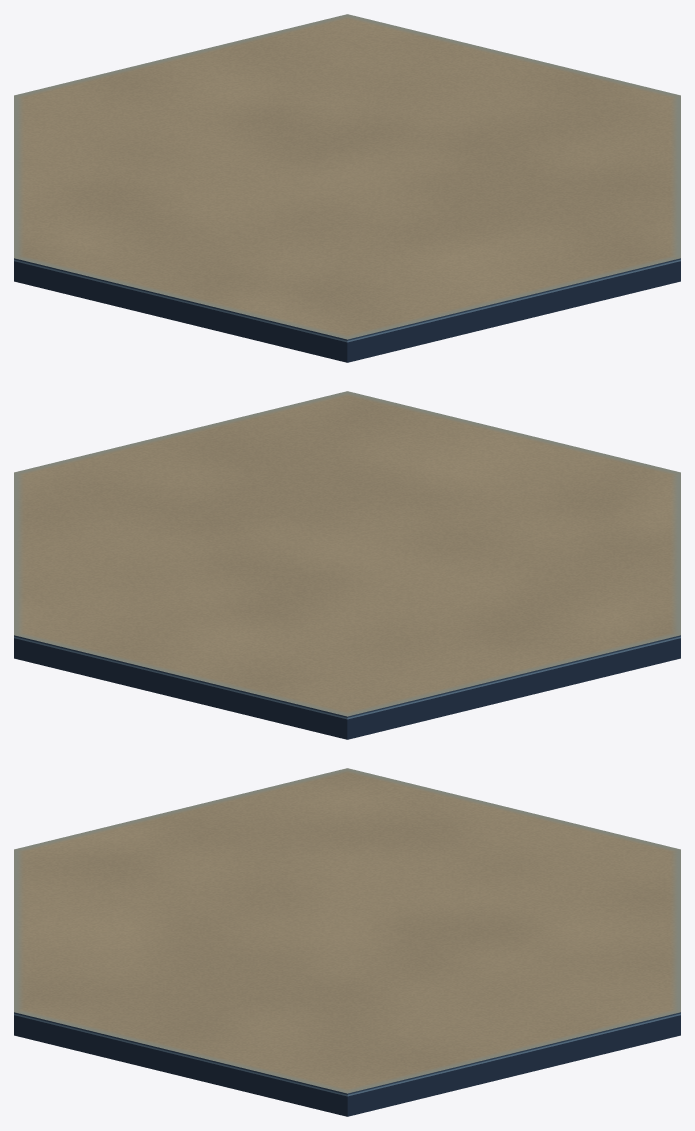
File: campus_tile_construction_v01.glb
The picture shows the model from 3 angles, top to bottom: view 1: azimuth 30°, elevation 25°; view 2: azimuth 150°, elevation 25°; view 3: azimuth 270°, elevation 25°; orthographic projection.
Visible parts, largest first — view 1: campus_tile_construction; view 2: campus_tile_construction; view 3: campus_tile_construction.
Boxes of the visible parts, box(x1,y1,x2,y2) form: campus_tile_construction: box(14, 14, 680, 362); campus_tile_construction: box(14, 391, 680, 739); campus_tile_construction: box(14, 768, 680, 1116).
Bounding box in the file's own units: 36 × 1.2 × 31.18.
Materials: 1 (1 with a texture image).
